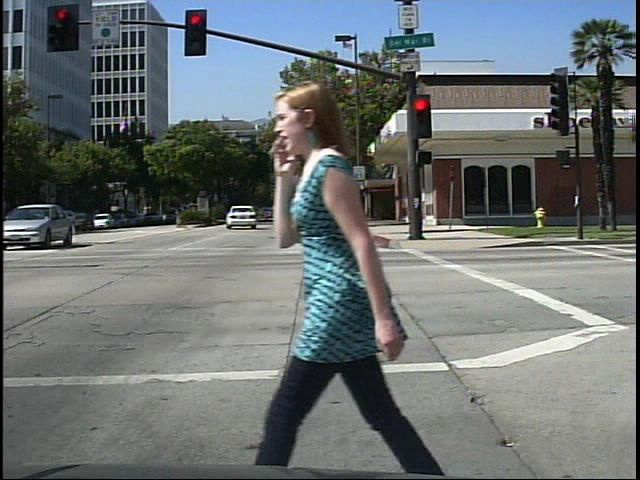person: (266, 68, 454, 480)
